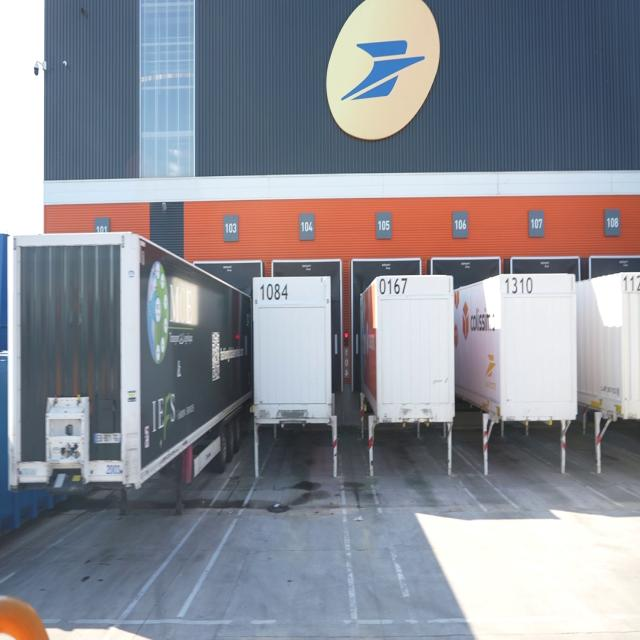Code: (502, 275, 535, 299), (260, 279, 290, 303), (378, 276, 409, 298)
